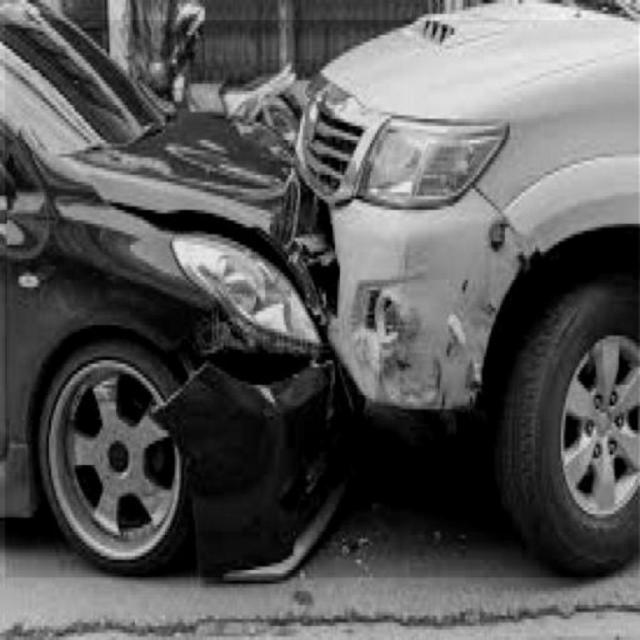accident: (5, 20, 639, 577)
